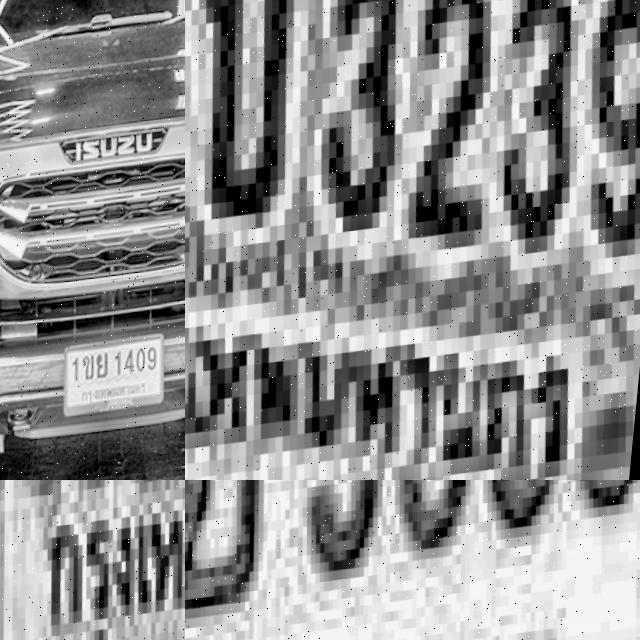license-plate: (185, 0, 640, 480), (185, 480, 640, 640), (0, 480, 185, 640), (65, 331, 180, 422)
